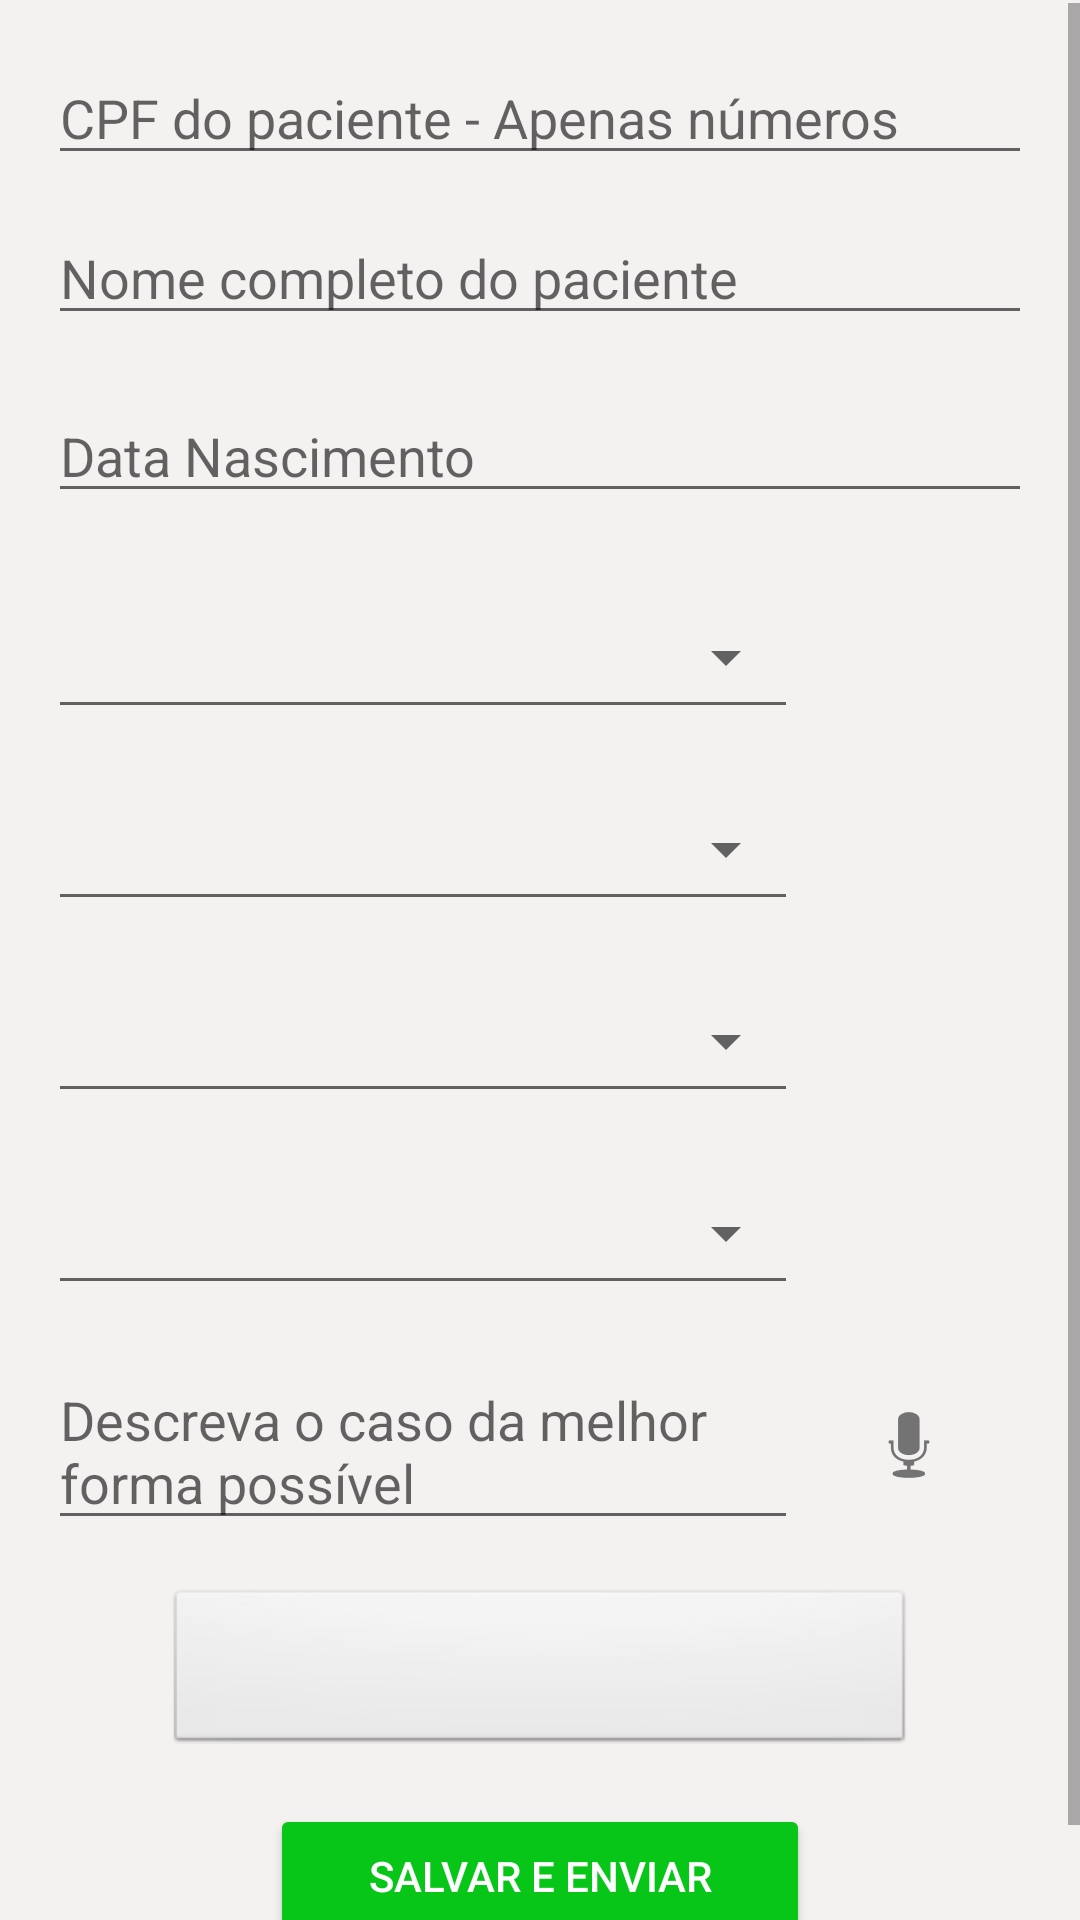

Icon bounding boxes for this 1080px x 1920px phone screenshot, format (x1, y1, x2, y2):
speak now: (888, 1412, 930, 1478)
